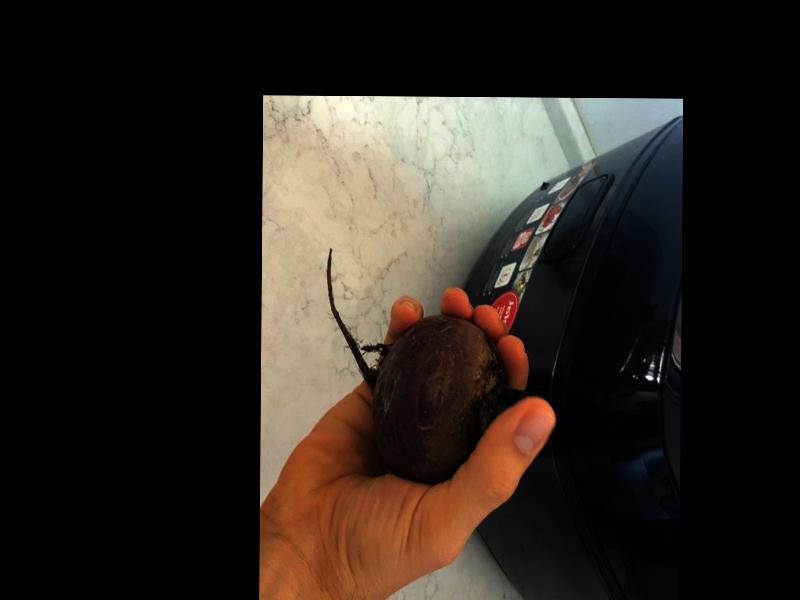Beet: (325, 248, 527, 483)
